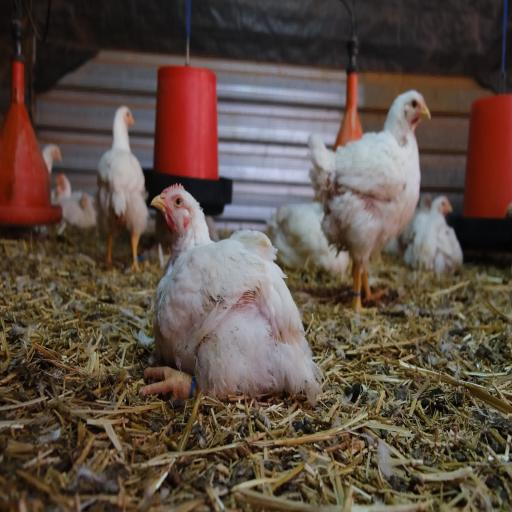healthy: (150, 166, 227, 232), (395, 86, 436, 137), (120, 98, 140, 132)
